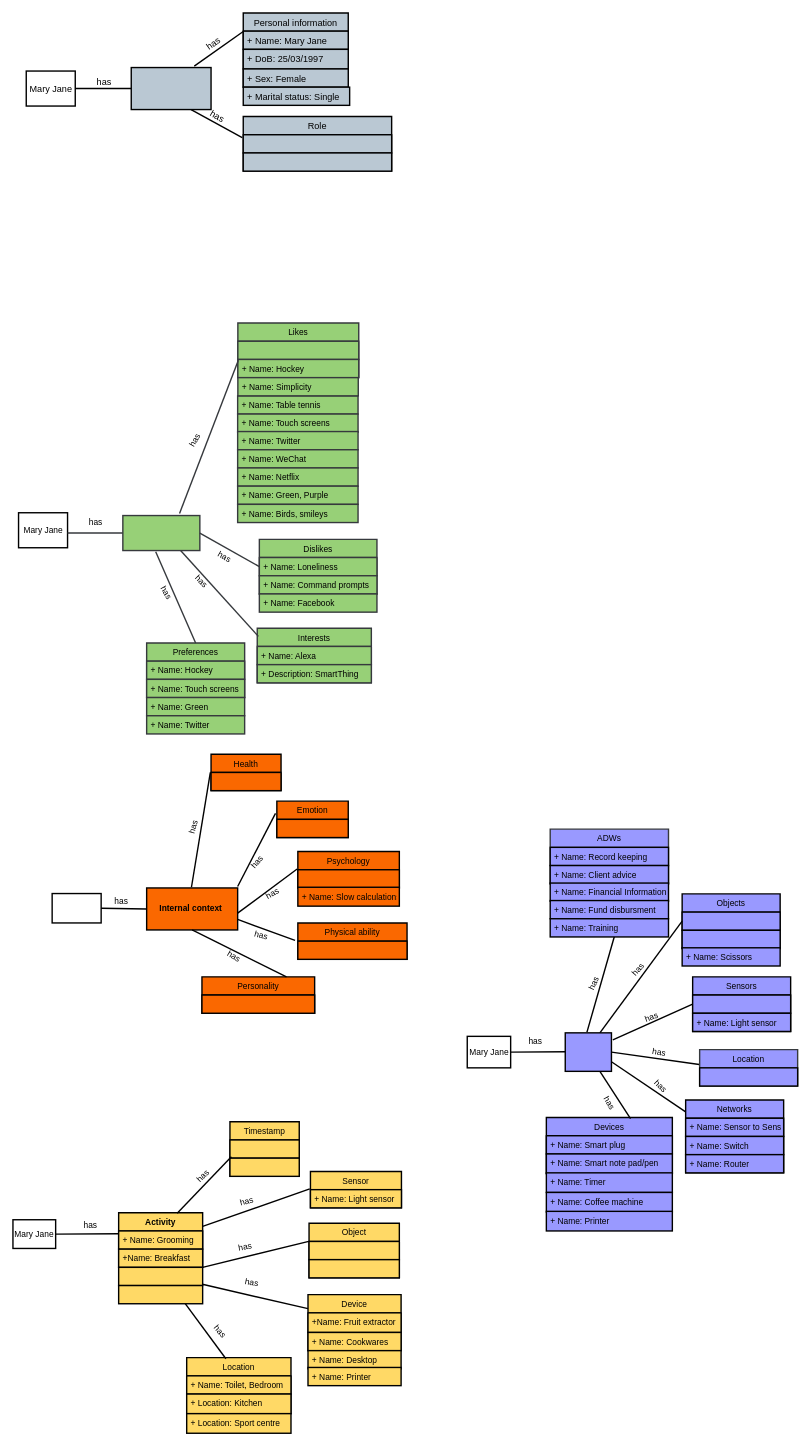
Some shapes in this 810 by 1447 pixel diagram are drawn without their labels. The centre of each missing label's shape, as x and y in pixels:
"+ Description: Operation activities" belongs at point 317,162.
"+ End: 07.00 pm" belongs at point 264,1167.
"+ Name: Anger" belongs at point 312,828.
"+ Name: Ball" belongs at point 354,1268.
"+ Name: Brush, wash" belongs at point 354,1250.
"+ Name: Conscientiousness" belongs at point 258,1004.
"+ Name: Customer care" belongs at point 748,1076.
"+ Name: Interactive Interfaces" belongs at point 298,350.
"+ Name: Marker" belongs at point 730,939.
"+ Name: Mental health" belongs at point 348,878.
"+ Name: Noise sensor" belongs at point 741,1004.
"+ Name: Operations Manager" belongs at point 317,143.
"+ Name: Stress" belongs at point 245,781.
"+ Name: Visual impairment" belongs at point 352,950.
"+ Name: Whiteboard" belongs at point 730,921.
"+ start: 06.00 am" belongs at point 264,1148.
"+Name: Hockey" belongs at point 160,1294.
"+Name: Work" belongs at point 160,1276.
"Dynamic User Model" belongs at point 161,532.
"Smart office" belongs at point 588,1052.
"Static User Model" belongs at point 170,88.
"User" belongs at point 76,907.
